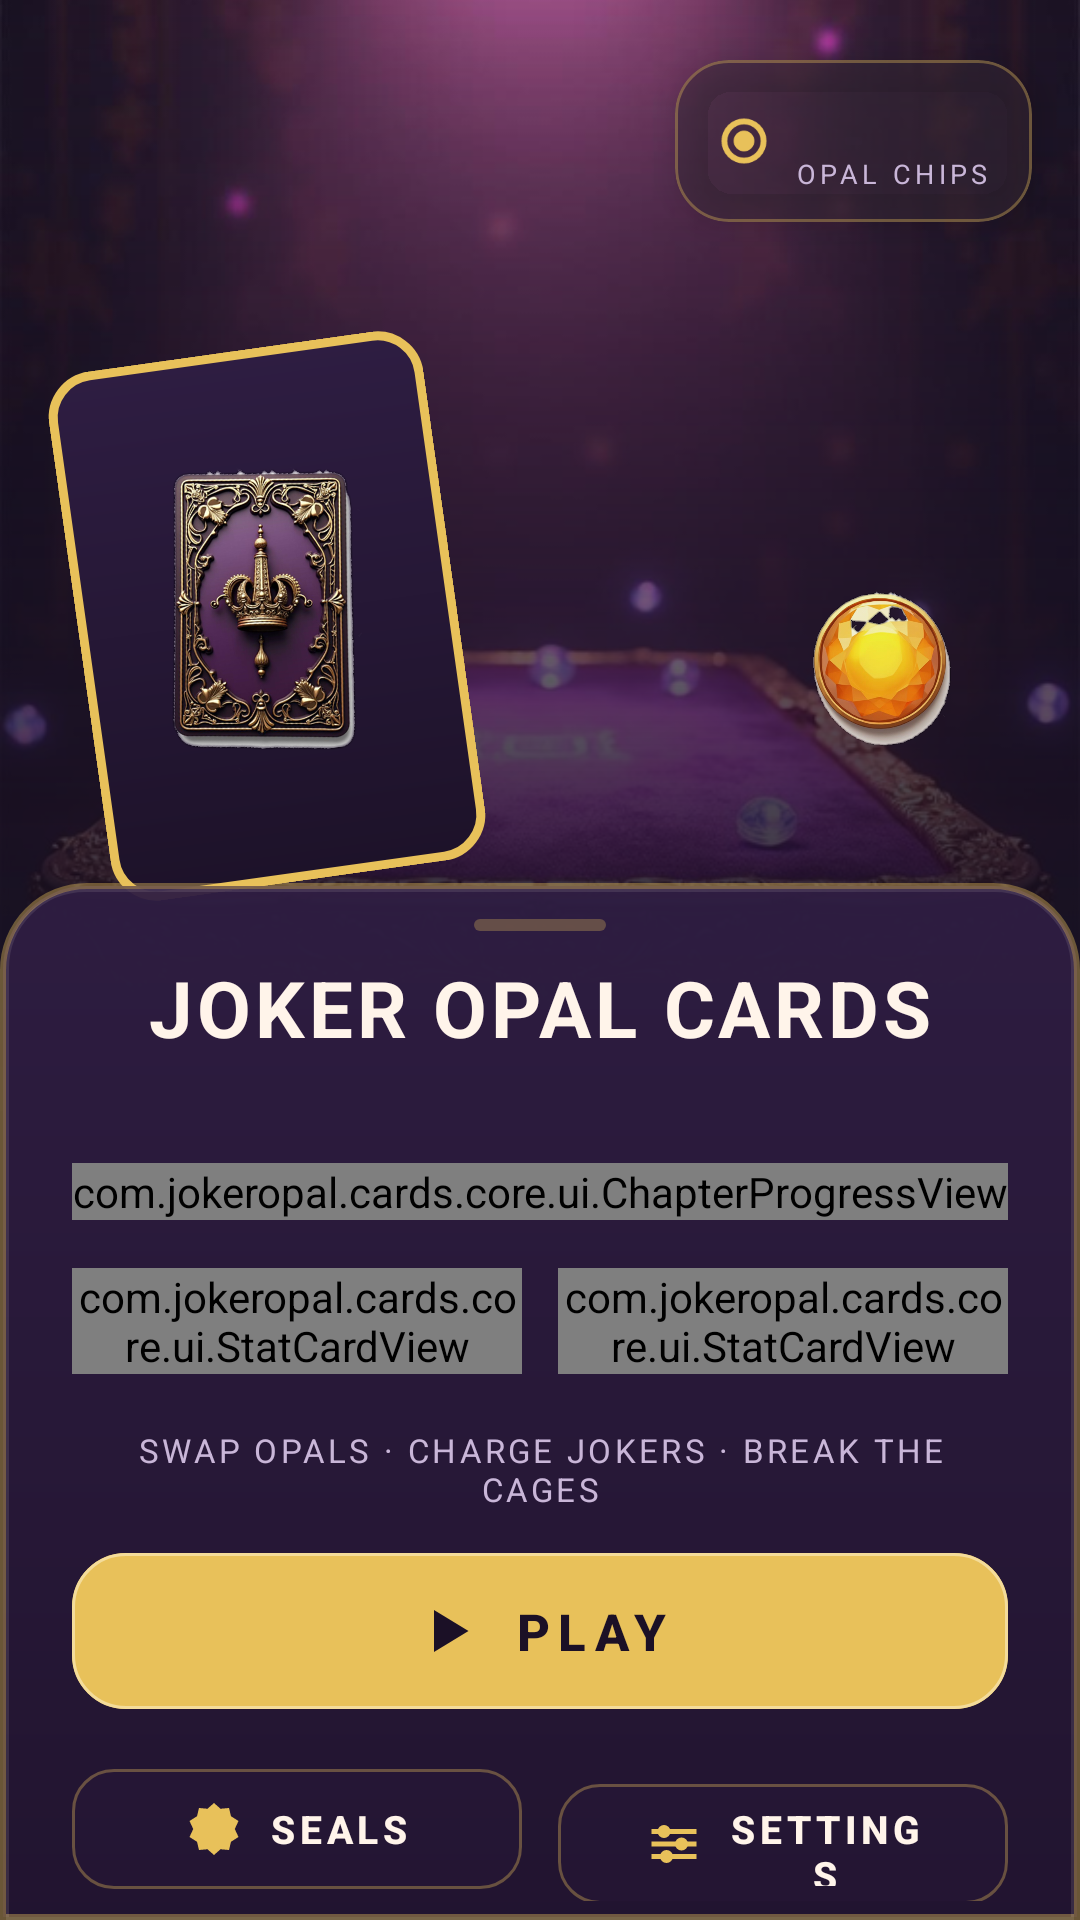

Where to tap for icons on this 1080w x 1920h app screen, as (x=x, y=y):
A glowing golden opal: (x=868, y=683)
